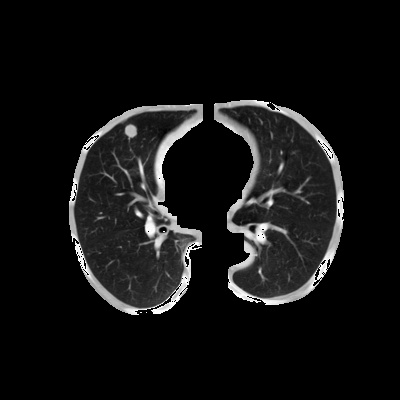PN: (124, 124, 136, 136)
